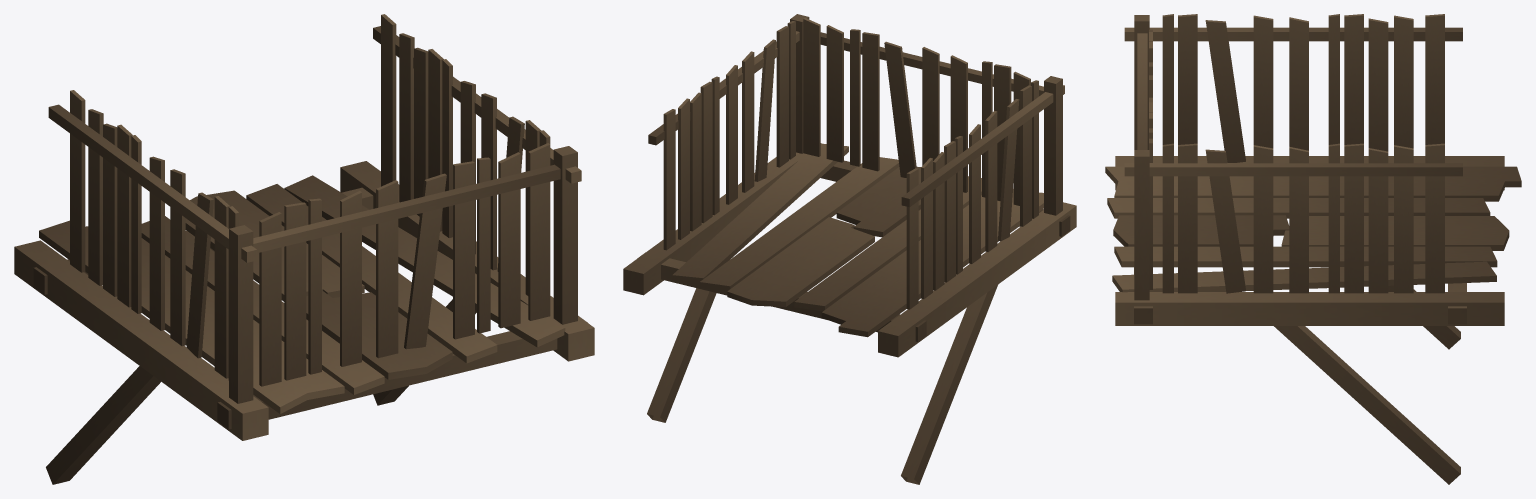
Rendered from ZLP_Build_D_5.FBX.
3 views of the same model, side by side, from view 1: azimuth 30°, elevation 25°; view 2: azimuth 150°, elevation 25°; view 3: azimuth 270°, elevation 25° (orthographic). The views are drawn at different scales.
Parts seen in each view (by area): view 1: ZLP_Build_D_5; view 2: ZLP_Build_D_5; view 3: ZLP_Build_D_5.
Part boxes in pixels (x1,y1,x2,y2): ZLP_Build_D_5: [14, 14, 594, 484]; ZLP_Build_D_5: [623, 14, 1076, 484]; ZLP_Build_D_5: [1105, 14, 1521, 484].
Size of the model in its own units: 203 by 212 by 239.
